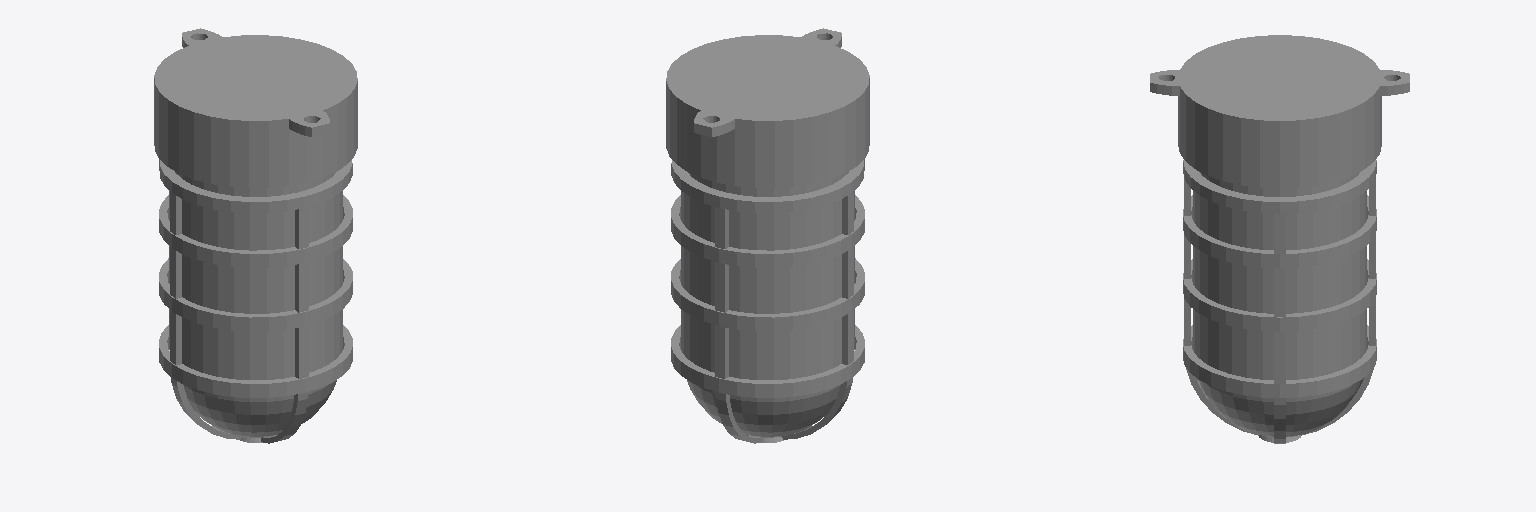
File: light.obj
3 views of the same model, side by side, from view 1: azimuth 30°, elevation 25°; view 2: azimuth 150°, elevation 25°; view 3: azimuth 270°, elevation 25° (orthographic).
Parts seen in each view (by area): view 1: bulb; view 2: bulb; view 3: bulb.
Boxes of the visible parts, x1=… form: bulb: x1=154, y1=28, x2=357, y2=443; bulb: x1=666, y1=28, x2=869, y2=443; bulb: x1=1150, y1=35, x2=1409, y2=443.
Bounding box in the file's own units: 0.3271 × 0.6299 × 0.416.